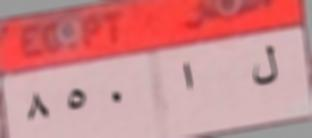0: (100, 85, 129, 109)
5: (61, 85, 89, 116)
8: (21, 90, 53, 124)
alif: (176, 59, 199, 95)
laam: (250, 40, 280, 92)
